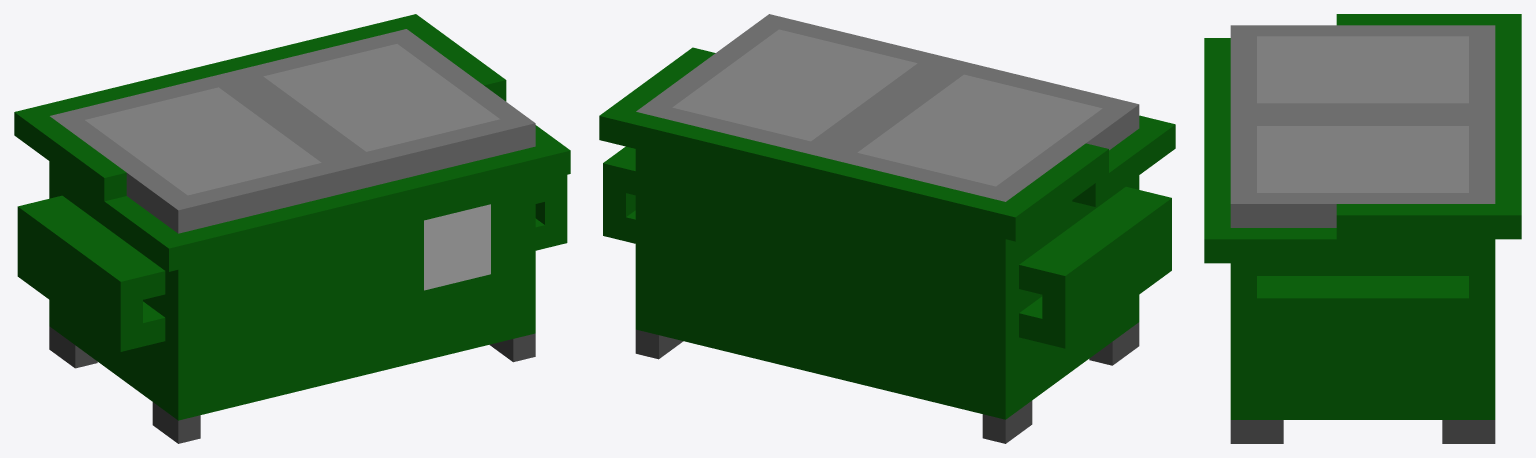
The model's file is obj_trashcan4.obj.
3 renders of one model, left to right at view 1: azimuth 30°, elevation 25°; view 2: azimuth 150°, elevation 25°; view 3: azimuth 270°, elevation 25°, orthographic. The views are drawn at different scales.
Size of the model in its own units: 2 by 1 by 1.2.
Materials: 1 (1 with a texture image).
